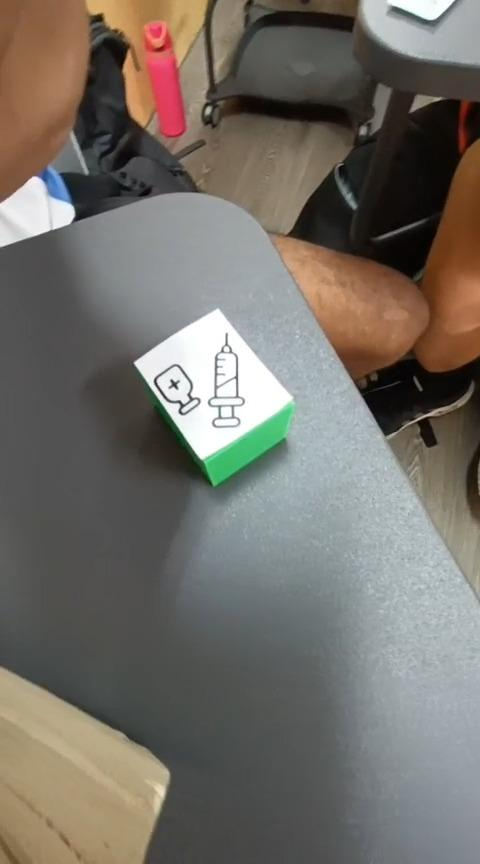antiseptic cream: (132, 306, 295, 487)
